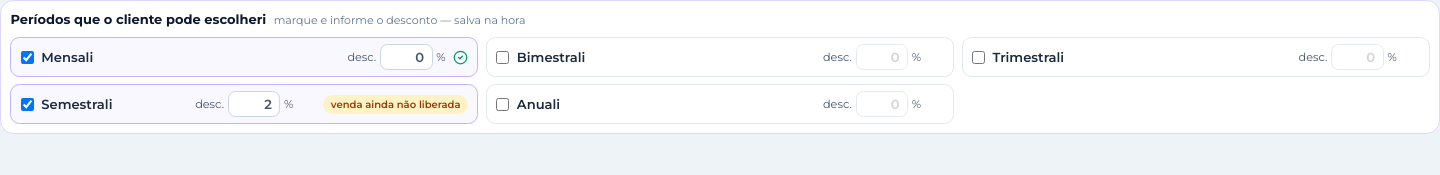
it: Períodos da assinatura dentro da Modalidade › recusa desconto fora de 0–90% sem chamar o servidor; sem nenhum período avisa
Expected: the list item with test id "period-row-mensal" is shown, top-left (10, 37), bottom-right (478, 77)
Replace the text in the field named "Desconto do período Semestral (%)" with "95" at (254, 104), box top-left (228, 91), bottom-right (280, 117)
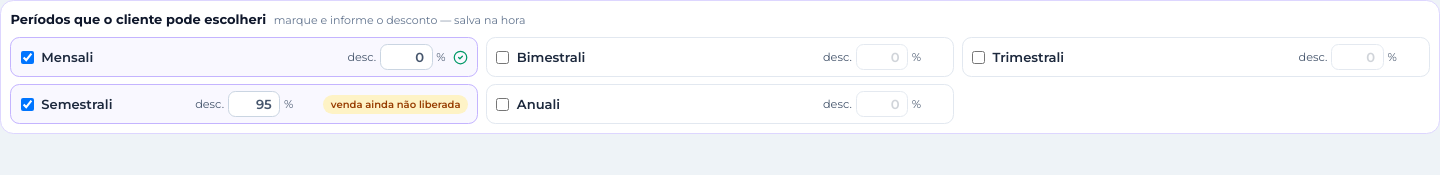
Leave the field named "Desconto do período Semestral (%)", box top-left (228, 91), bottom-right (280, 117)
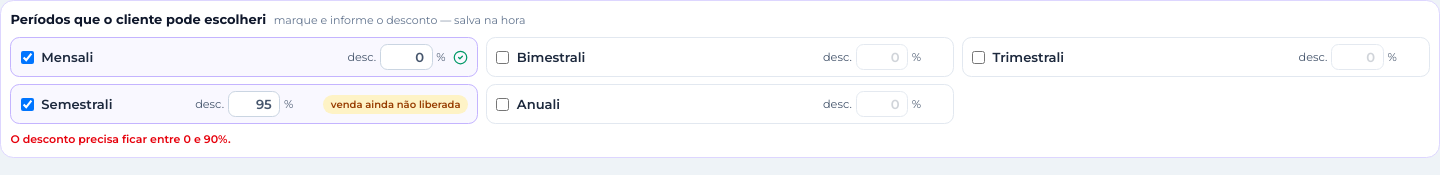
Now the text "O desconto precisa ficar entre 0 e 90%." is shown, box top-left (10, 132), bottom-right (231, 146)
